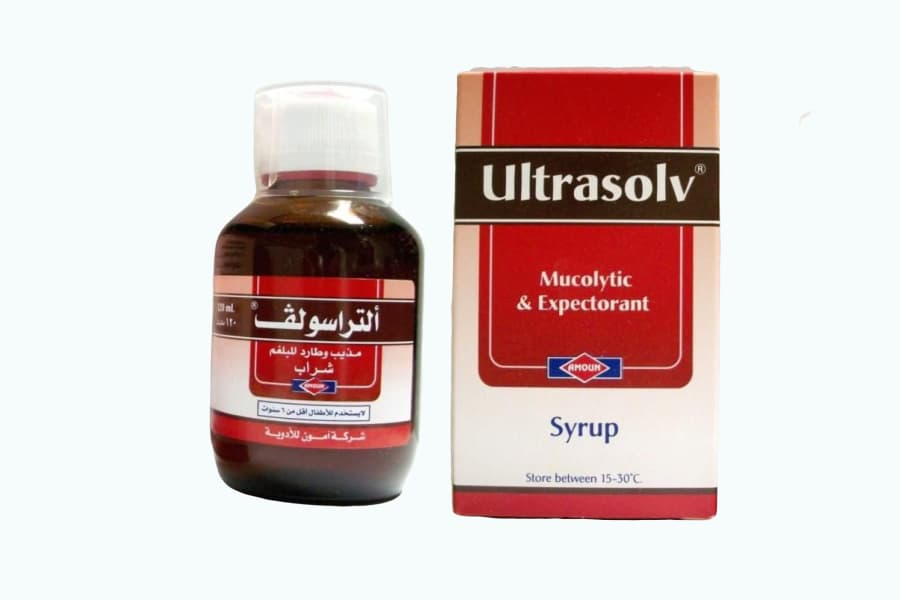Medicine: (450, 58, 728, 522), (213, 72, 427, 507)
